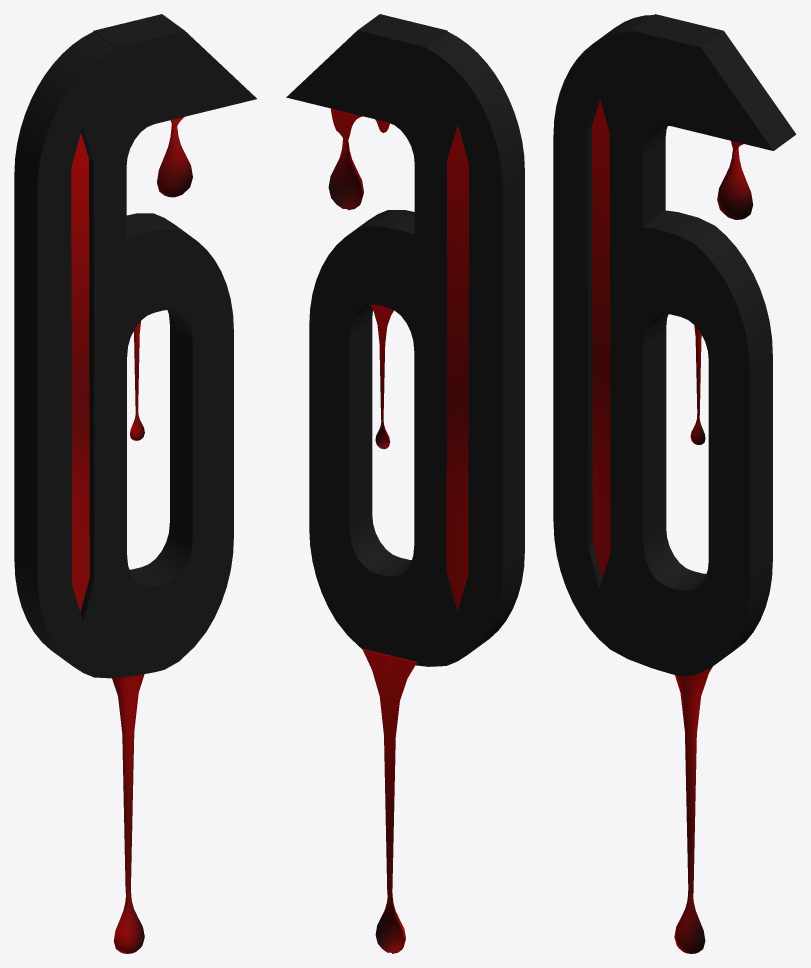
3 views of the same model, side by side, from view 1: azimuth 30°, elevation 25°; view 2: azimuth 150°, elevation 25°; view 3: azimuth 330°, elevation 25° (orthographic).
Parts seen in each view (by area): view 1: 6, 6_Element, Blood_295, Blood_290, Blood_283; view 2: 6, 6_Element, Blood_295, Blood_290, Blood_283; view 3: 6, 6_Element, Blood_295, Blood_290, Blood_283.
Part boxes in pixels (x1,y1,x2,y2): 6: (14, 14, 256, 678); 6_Element: (71, 133, 89, 611); Blood_295: (112, 674, 144, 953); Blood_290: (157, 117, 192, 197); Blood_283: (130, 321, 144, 440); 6: (286, 14, 524, 666); 6_Element: (446, 125, 468, 610); Blood_295: (362, 649, 417, 953); Blood_290: (328, 108, 389, 210); Blood_283: (370, 304, 393, 449); 6: (553, 14, 796, 676); 6_Element: (592, 100, 610, 578); Blood_295: (674, 667, 712, 953); Blood_290: (717, 141, 753, 219); Blood_283: (690, 325, 705, 444).
Bounding box in the file's own units: 27.83 × 112 × 5.16.
2 materials, 1 textured.
